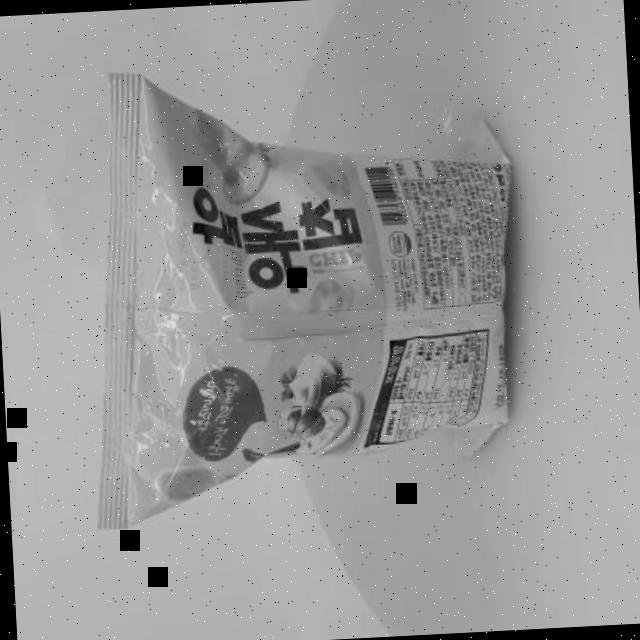snack_bag: (66, 37, 548, 540)
